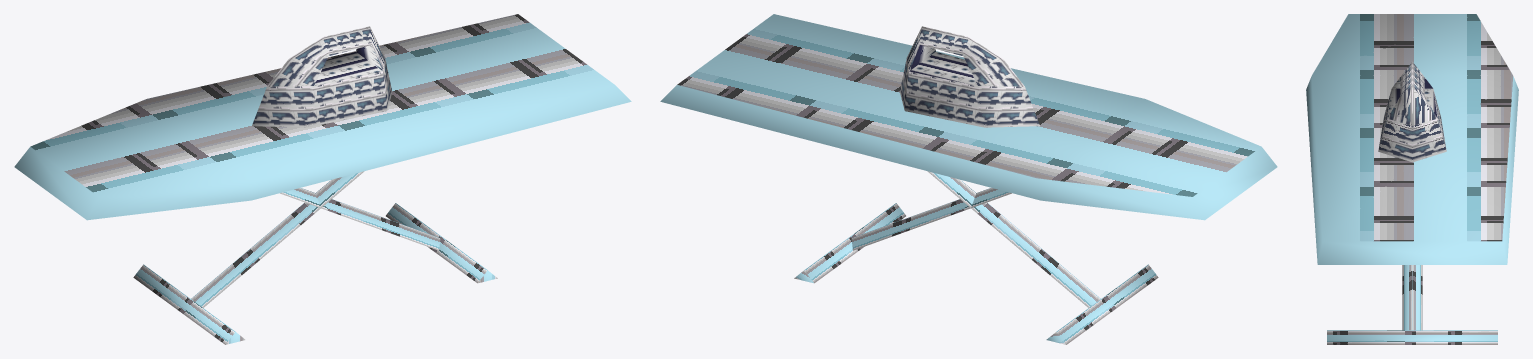
File: 3534IMEL01_35.gltf
3 renders of one model, left to right at view 1: azimuth 30°, elevation 25°; view 2: azimuth 150°, elevation 25°; view 3: azimuth 270°, elevation 25°, orthographic. The views are drawn at different scales.
Parts seen in each view (by area): view 1: 3534IMEL01_35; view 2: 3534IMEL01_35; view 3: 3534IMEL01_35.
Part boxes in pixels (<box>): 3534IMEL01_35: <box>14,14,631,344</box>; 3534IMEL01_35: <box>660,14,1277,344</box>; 3534IMEL01_35: <box>1306,14,1518,344</box>.
Size of the model in its own units: 1.86 by 0.8022 by 0.6948.
3 materials, 3 textured.
